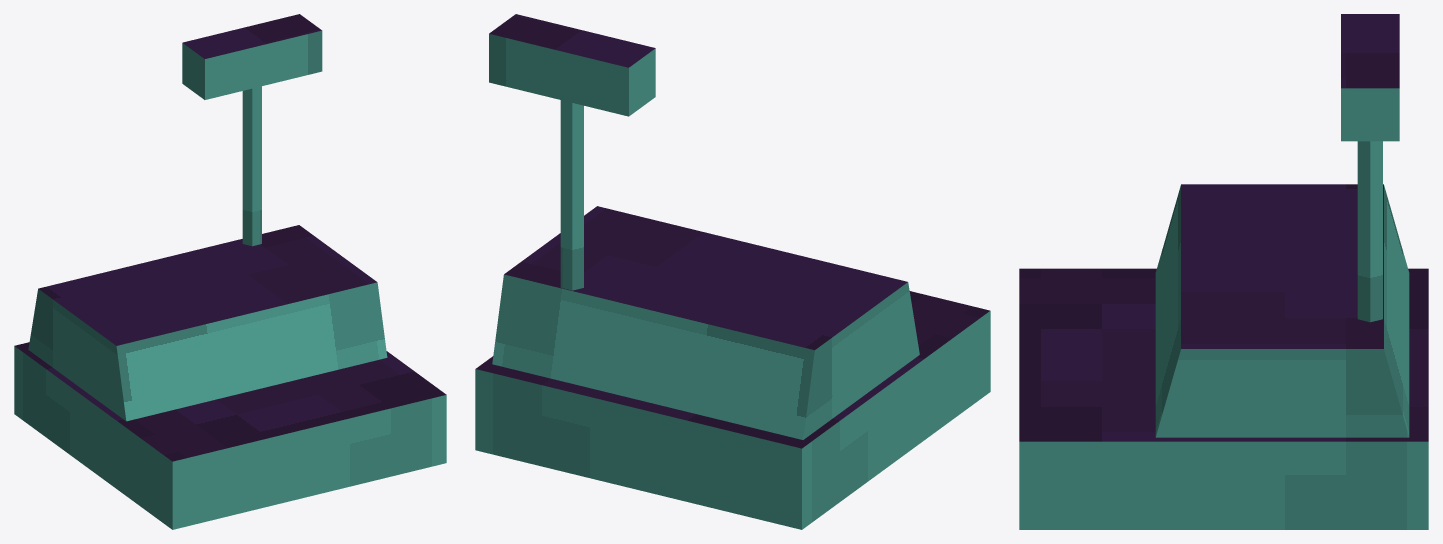
File: register_CompleteSet.fbx
3 views of the same model, side by side, from view 1: azimuth 30°, elevation 25°; view 2: azimuth 150°, elevation 25°; view 3: azimuth 270°, elevation 25° (orthographic). The views are drawn at different scales.
Visible parts, largest first — view 1: register; view 2: register; view 3: register.
Part boxes in pixels (<box>): register: <box>14,14,446,529</box>; register: <box>475,14,990,529</box>; register: <box>1019,14,1428,529</box>.
Bounding box in the file's own units: 42 × 50 × 42.
